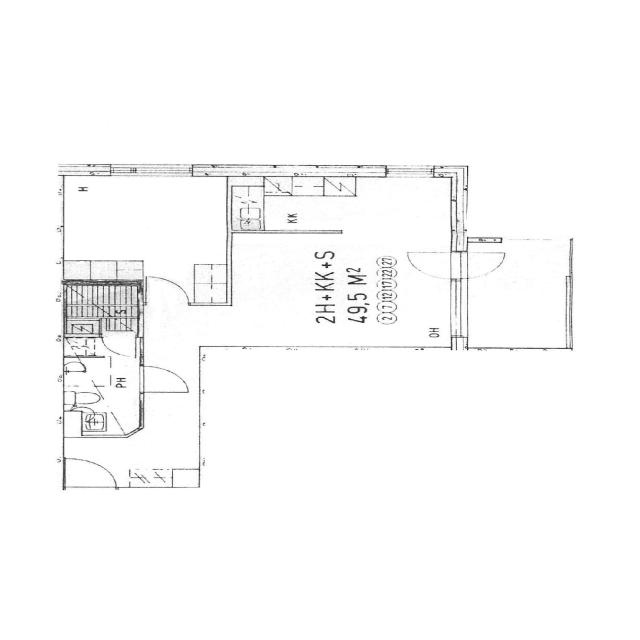door: (54, 454, 123, 492), (425, 251, 509, 280), (135, 364, 194, 396), (138, 274, 193, 306), (97, 332, 142, 358)
window: (444, 281, 472, 344), (379, 164, 437, 181)
zone: (232, 192, 461, 353), (55, 172, 229, 280), (459, 242, 575, 352), (62, 334, 142, 428), (62, 280, 140, 335)
